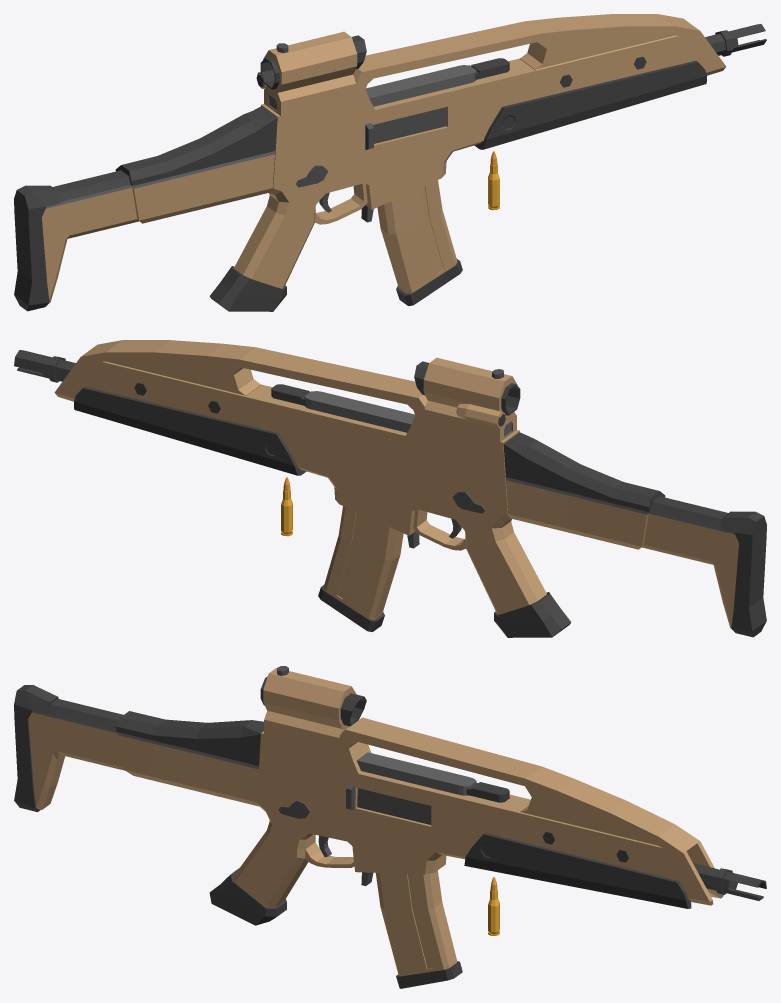
3 renders of one model, top to bottom at view 1: azimuth 30°, elevation 25°; view 2: azimuth 150°, elevation 25°; view 3: azimuth 330°, elevation 25°, orthographic.
Parts seen in each view (by area): view 1: XM8, Mag, Bullet; view 2: XM8, Mag, Bullet; view 3: XM8, Mag, Bullet.
Boxes of the visible parts, x1,y1,x2,y2 form: XM8: (14,14,766,311); Mag: (377,180,462,306); Bullet: (488,151,499,210); XM8: (14,340,766,637); Mag: (318,506,403,631); Bullet: (281,477,292,536); XM8: (14,666,766,925); Mag: (375,870,462,988); Bullet: (488,877,499,935).
Size of the model in its own units: 926 by 343 by 54.13.
Materials: 1 (1 with a texture image).
